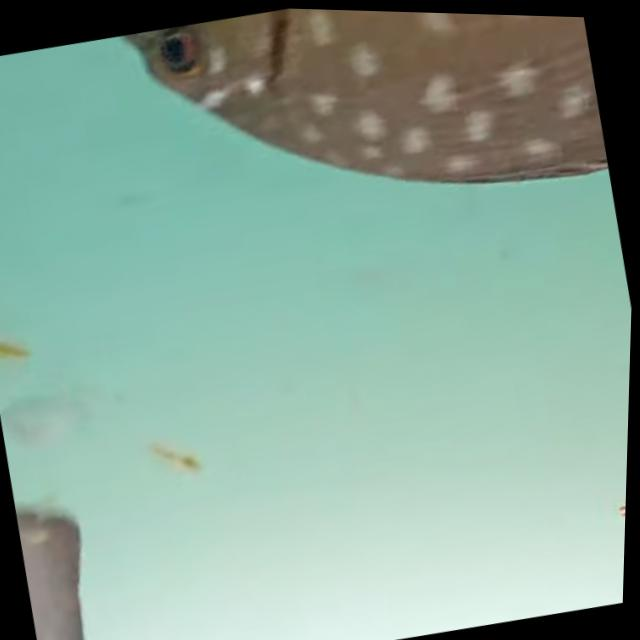fish: (107, 3, 614, 262)
